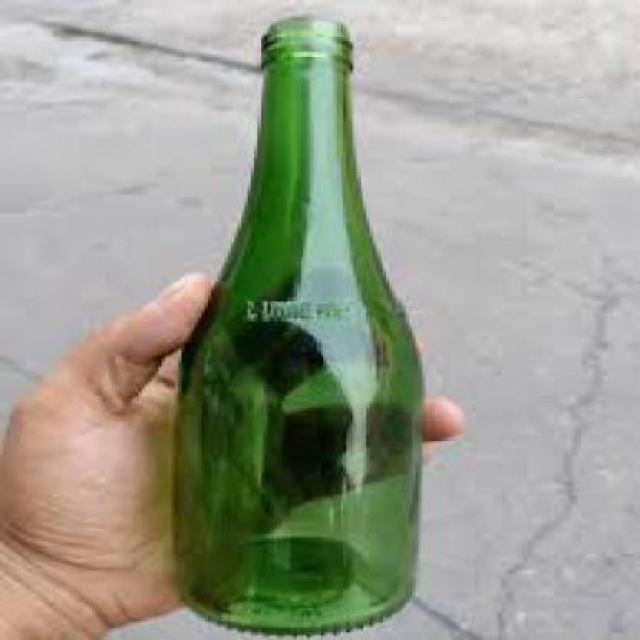kaca: (162, 16, 423, 638)
